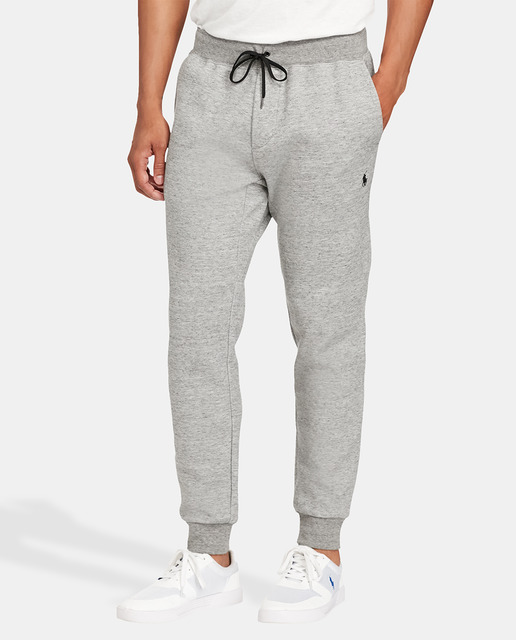feet: (107, 457, 360, 640)
